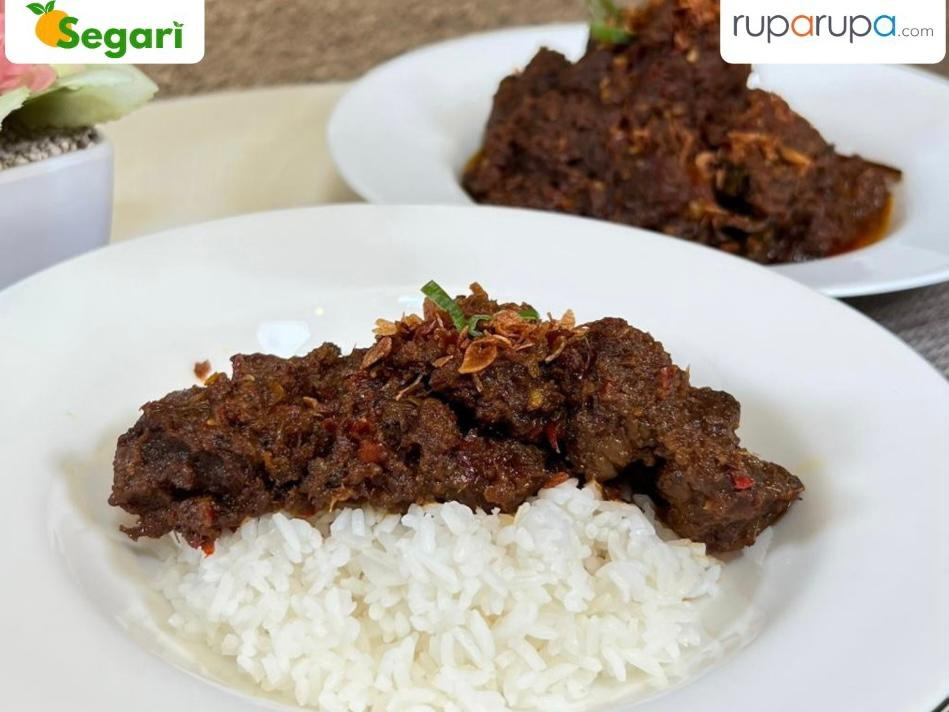rendang: (108, 297, 813, 565), (441, 41, 928, 261)
